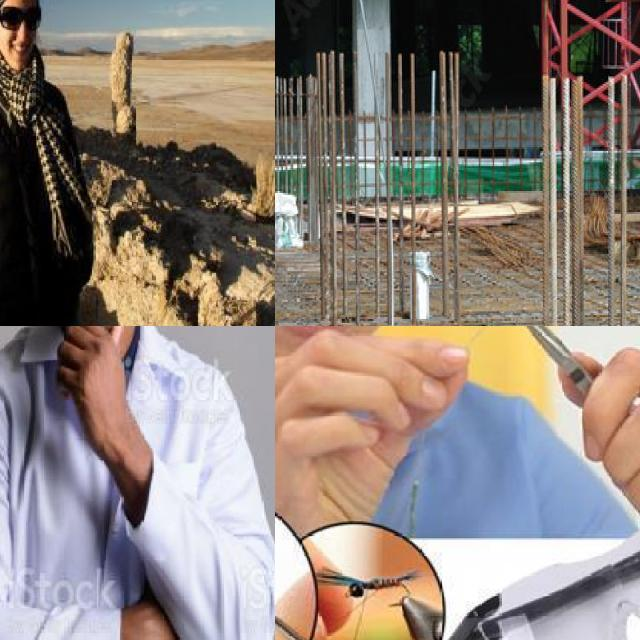face_nomask: (0, 6, 42, 59)
glasses: (0, 3, 41, 40)
hand_noglove: (275, 326, 475, 489), (550, 334, 640, 537), (54, 326, 129, 428)
person: (0, 326, 268, 640), (0, 0, 98, 326)
